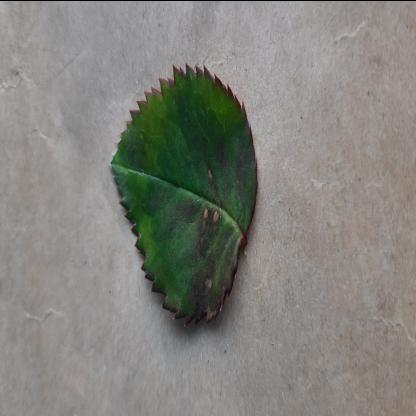powdery-mildew: (111, 60, 257, 328)
